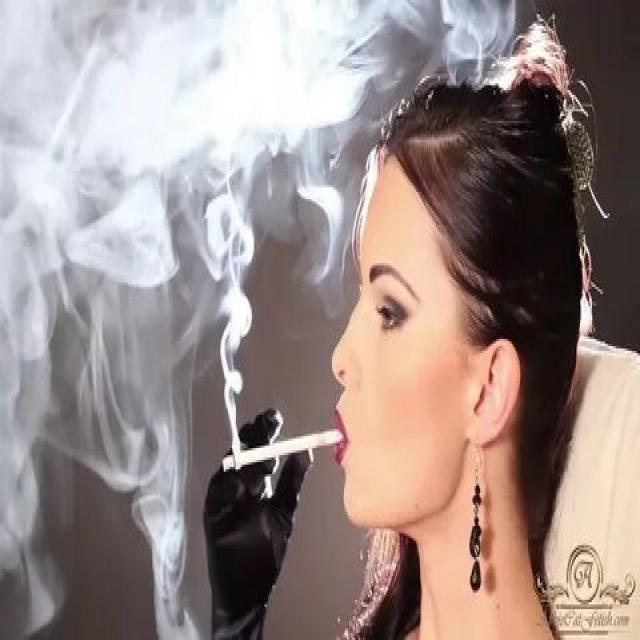cigarette: (221, 424, 347, 476)
